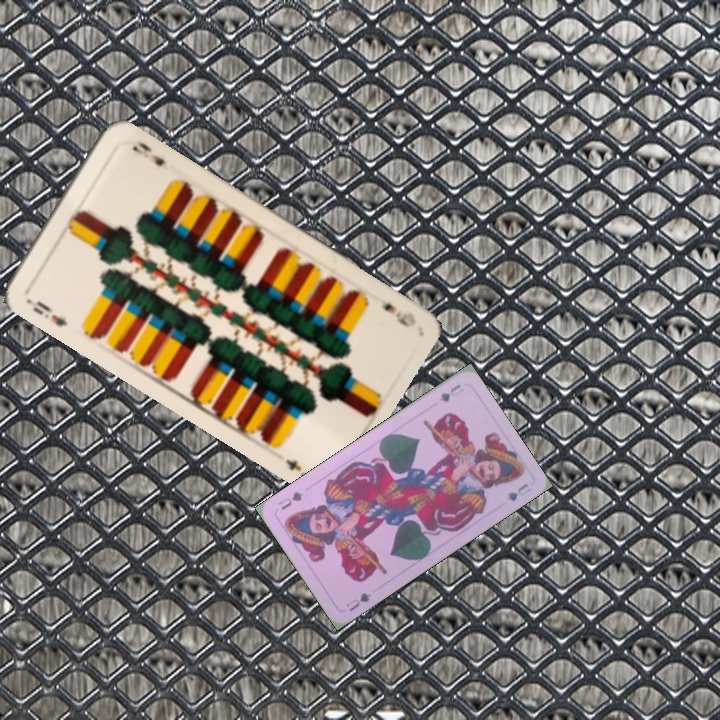E9: (28, 297, 70, 330), (377, 299, 419, 330)
GU: (342, 588, 374, 614), (435, 380, 466, 405)
